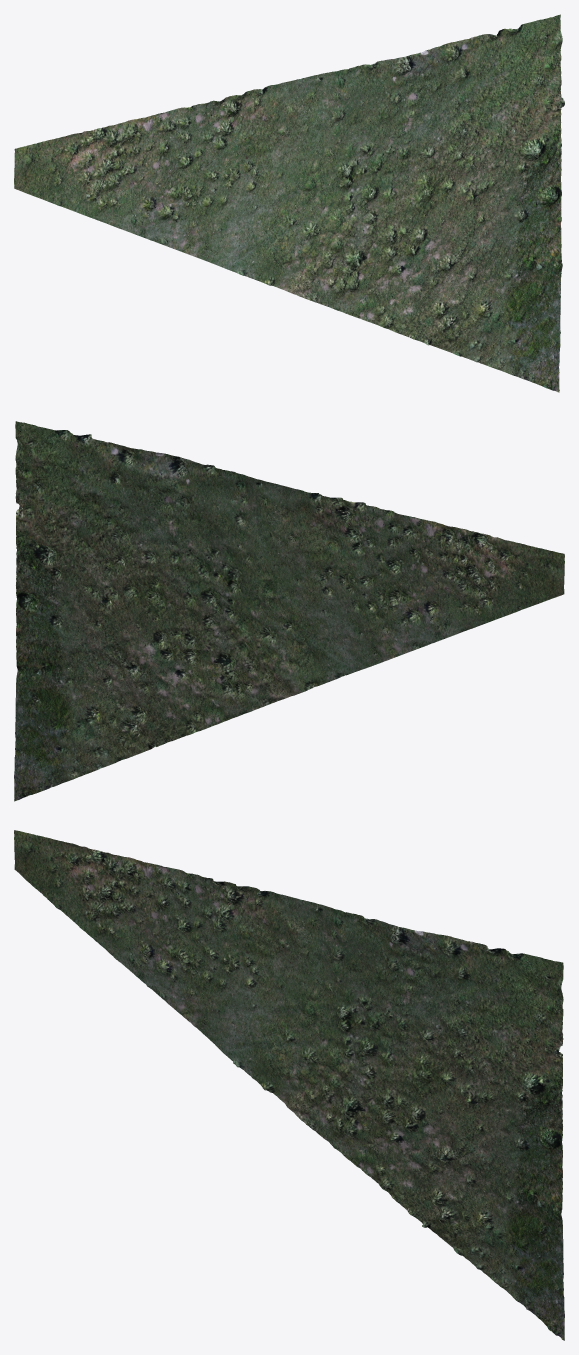
Rendered from Tile_10.fbx.
3 views of the same model, one above another, from view 1: azimuth 30°, elevation 25°; view 2: azimuth 150°, elevation 25°; view 3: azimuth 330°, elevation 25° (orthographic).
Visible parts, largest first — view 1: DefaultName; view 2: DefaultName; view 3: DefaultName.
Boxes of the visible parts, bbox=[...] form: DefaultName: bbox=[14, 14, 564, 392]; DefaultName: bbox=[14, 421, 564, 801]; DefaultName: bbox=[14, 830, 564, 1340].
Bounding box in the file's own units: 27.49 × 18.19 × 0.8936.
Materials: 1 (1 with a texture image).
